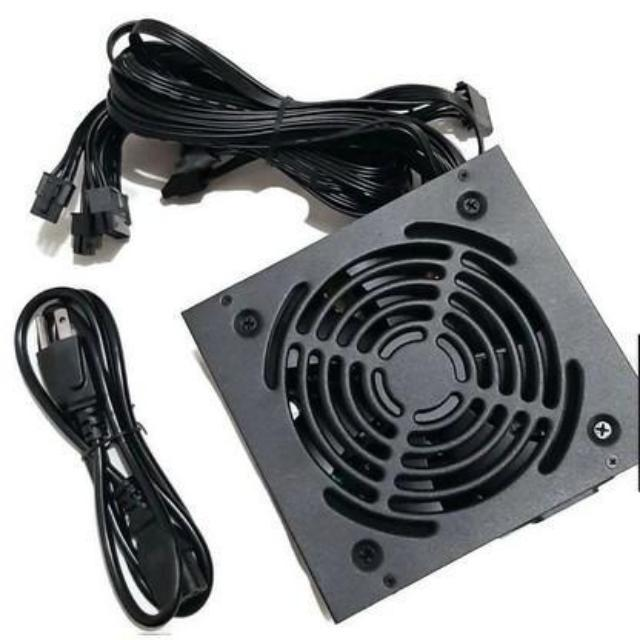PSU: (183, 128, 640, 616)
